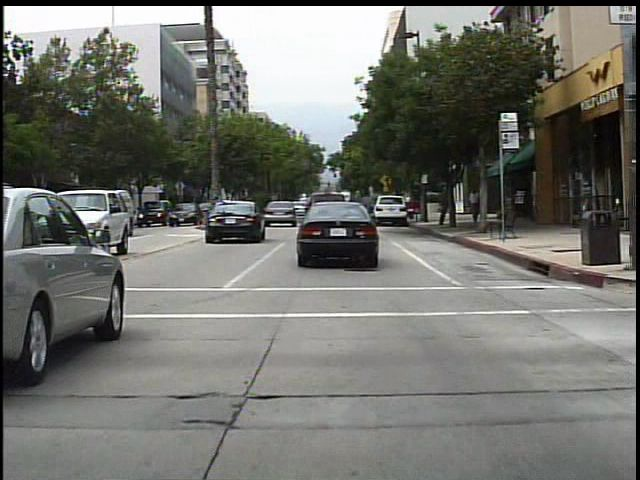person: (466, 187, 486, 231)
